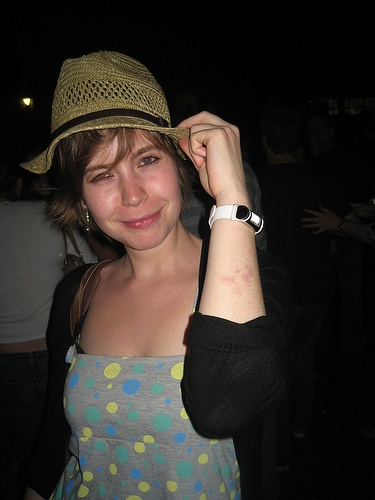head: (59, 94, 188, 253)
person: (25, 60, 300, 493), (255, 101, 353, 498), (303, 89, 373, 469)
